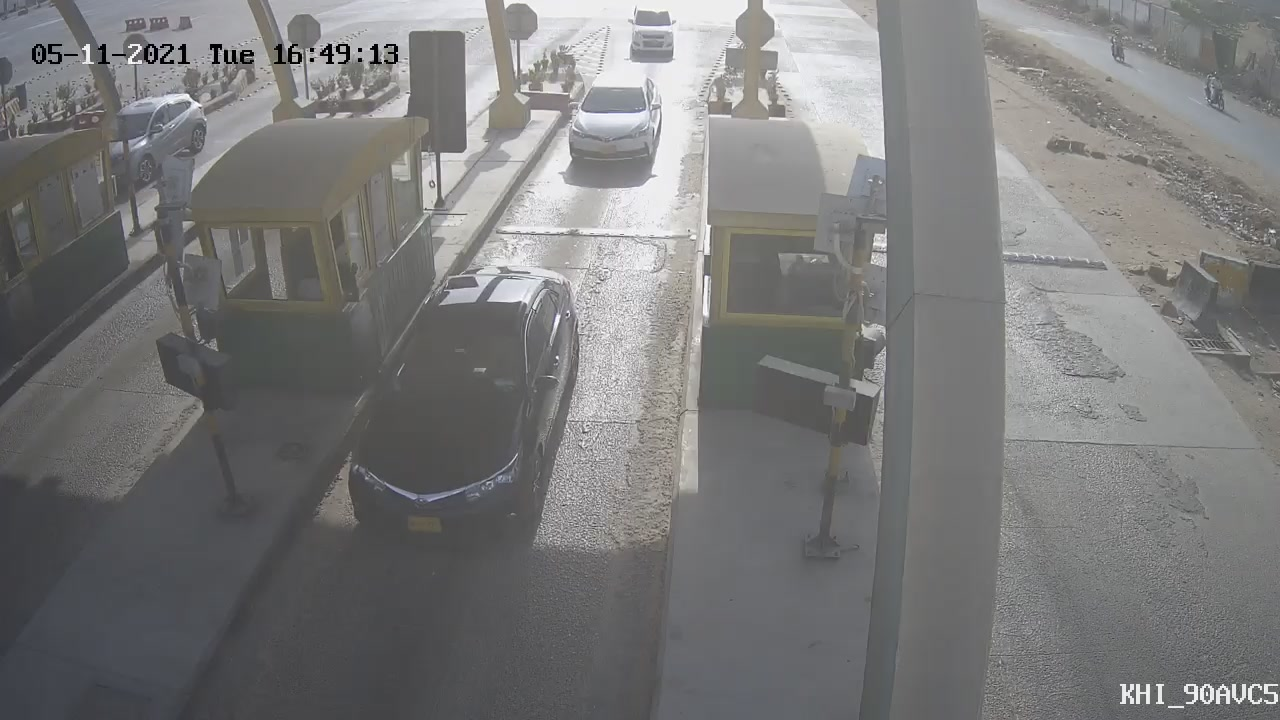F1: (287, 252, 608, 568), (551, 56, 672, 186)
